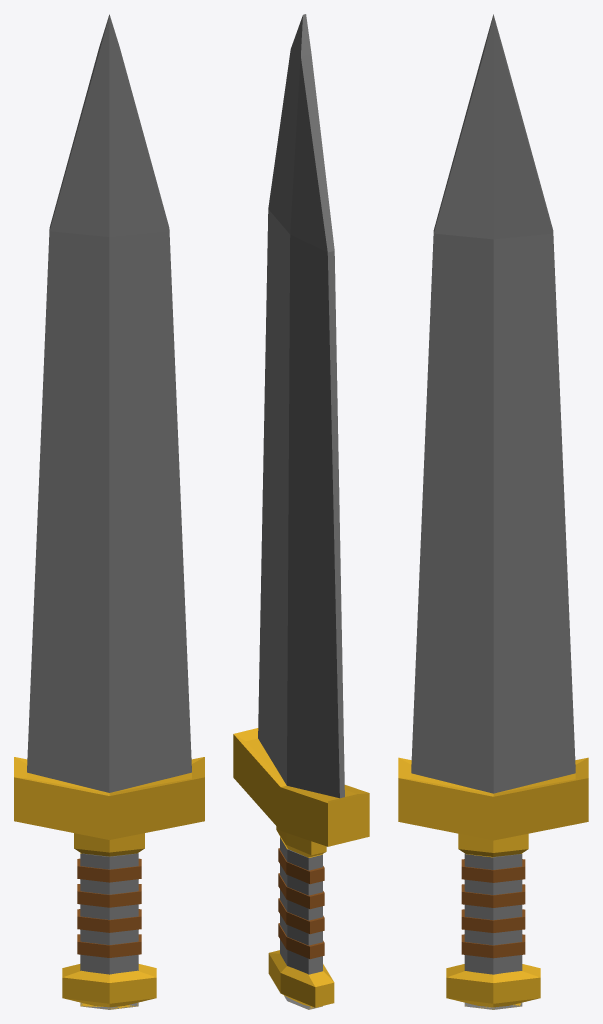
The model's file is sword.fbx.
The picture shows the model from 3 angles, left to right: view 1: azimuth 90°, elevation 25°; view 2: azimuth 210°, elevation 25°; view 3: azimuth 270°, elevation 25°; orthographic projection.
Parts seen in each view (by area): view 1: Cube; view 2: Cube; view 3: Cube.
Part boxes in pixels (x1,y1,x2,y2): Cube: (14, 14, 204, 1009); Cube: (233, 14, 369, 1009); Cube: (398, 14, 588, 1009).
Size of the model in its own units: 201 by 4502 by 786.
